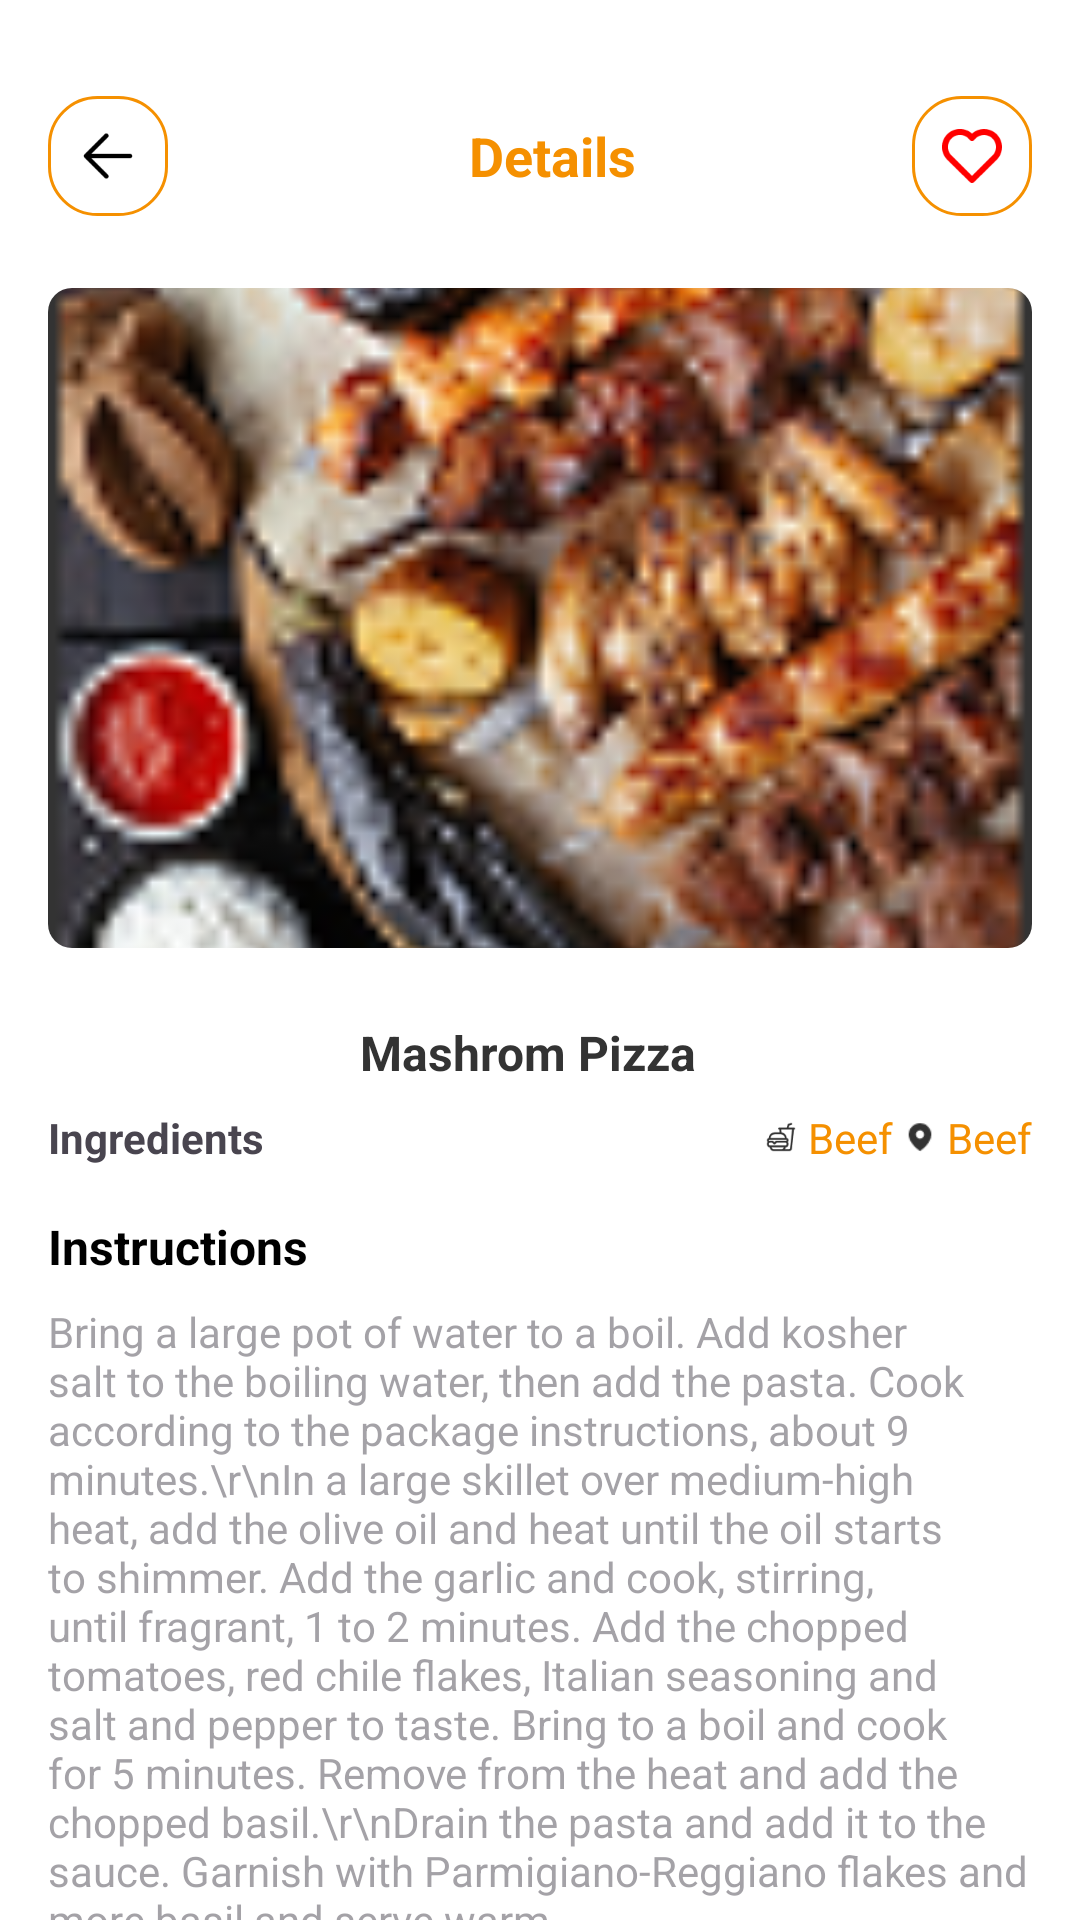

Named icons in this screenshot (1080*1920) and their bounding boxes, (x1, y1, x2, y2):
back arrow: (48, 96, 168, 216)
favourite border: (912, 96, 1032, 216)
food: (767, 1123, 795, 1152)
location: (908, 1123, 932, 1151)
